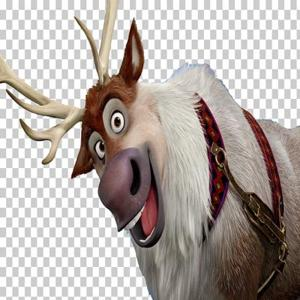sven: (8, 11, 236, 267)
